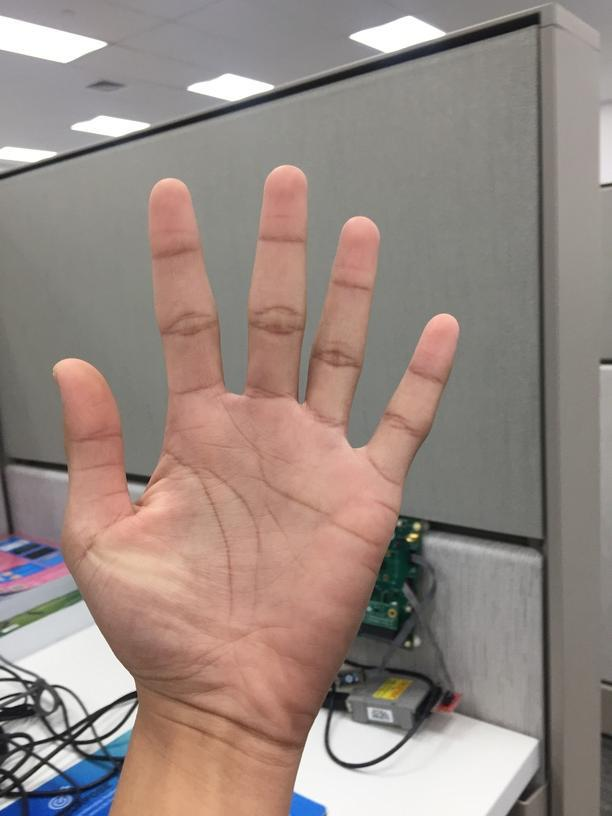hand: (54, 162, 461, 725)
